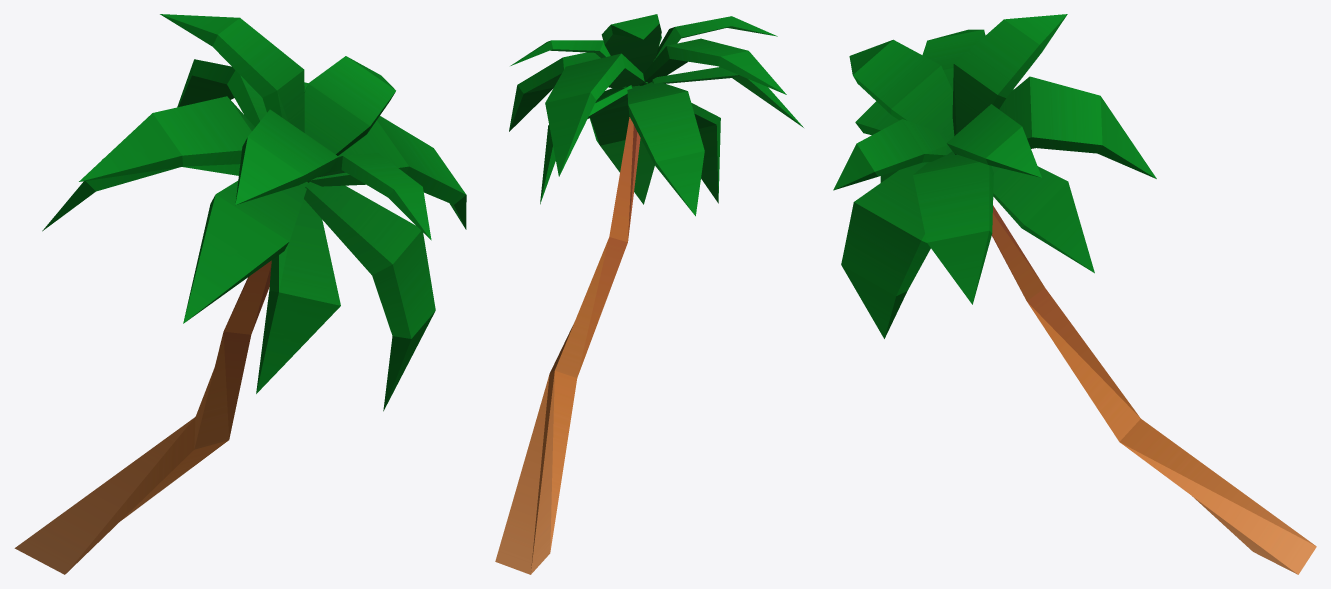
The model's file is GL-Palmtree-02-LOD3.fbx.
3 renders of one model, left to right at view 1: azimuth 30°, elevation 25°; view 2: azimuth 150°, elevation 25°; view 3: azimuth 270°, elevation 25°, orthographic. The views are drawn at different scales.
Parts seen in each view (by area): view 1: GL_Palmtree_02; view 2: GL_Palmtree_02; view 3: GL_Palmtree_02.
Boxes of the visible parts, x1=… form: GL_Palmtree_02: x1=14, y1=14, x2=466, y2=574; GL_Palmtree_02: x1=495, y1=14, x2=803, y2=574; GL_Palmtree_02: x1=833, y1=14, x2=1316, y2=574.
Bounding box in the file's own units: 2.75 × 4.41 × 3.61.
